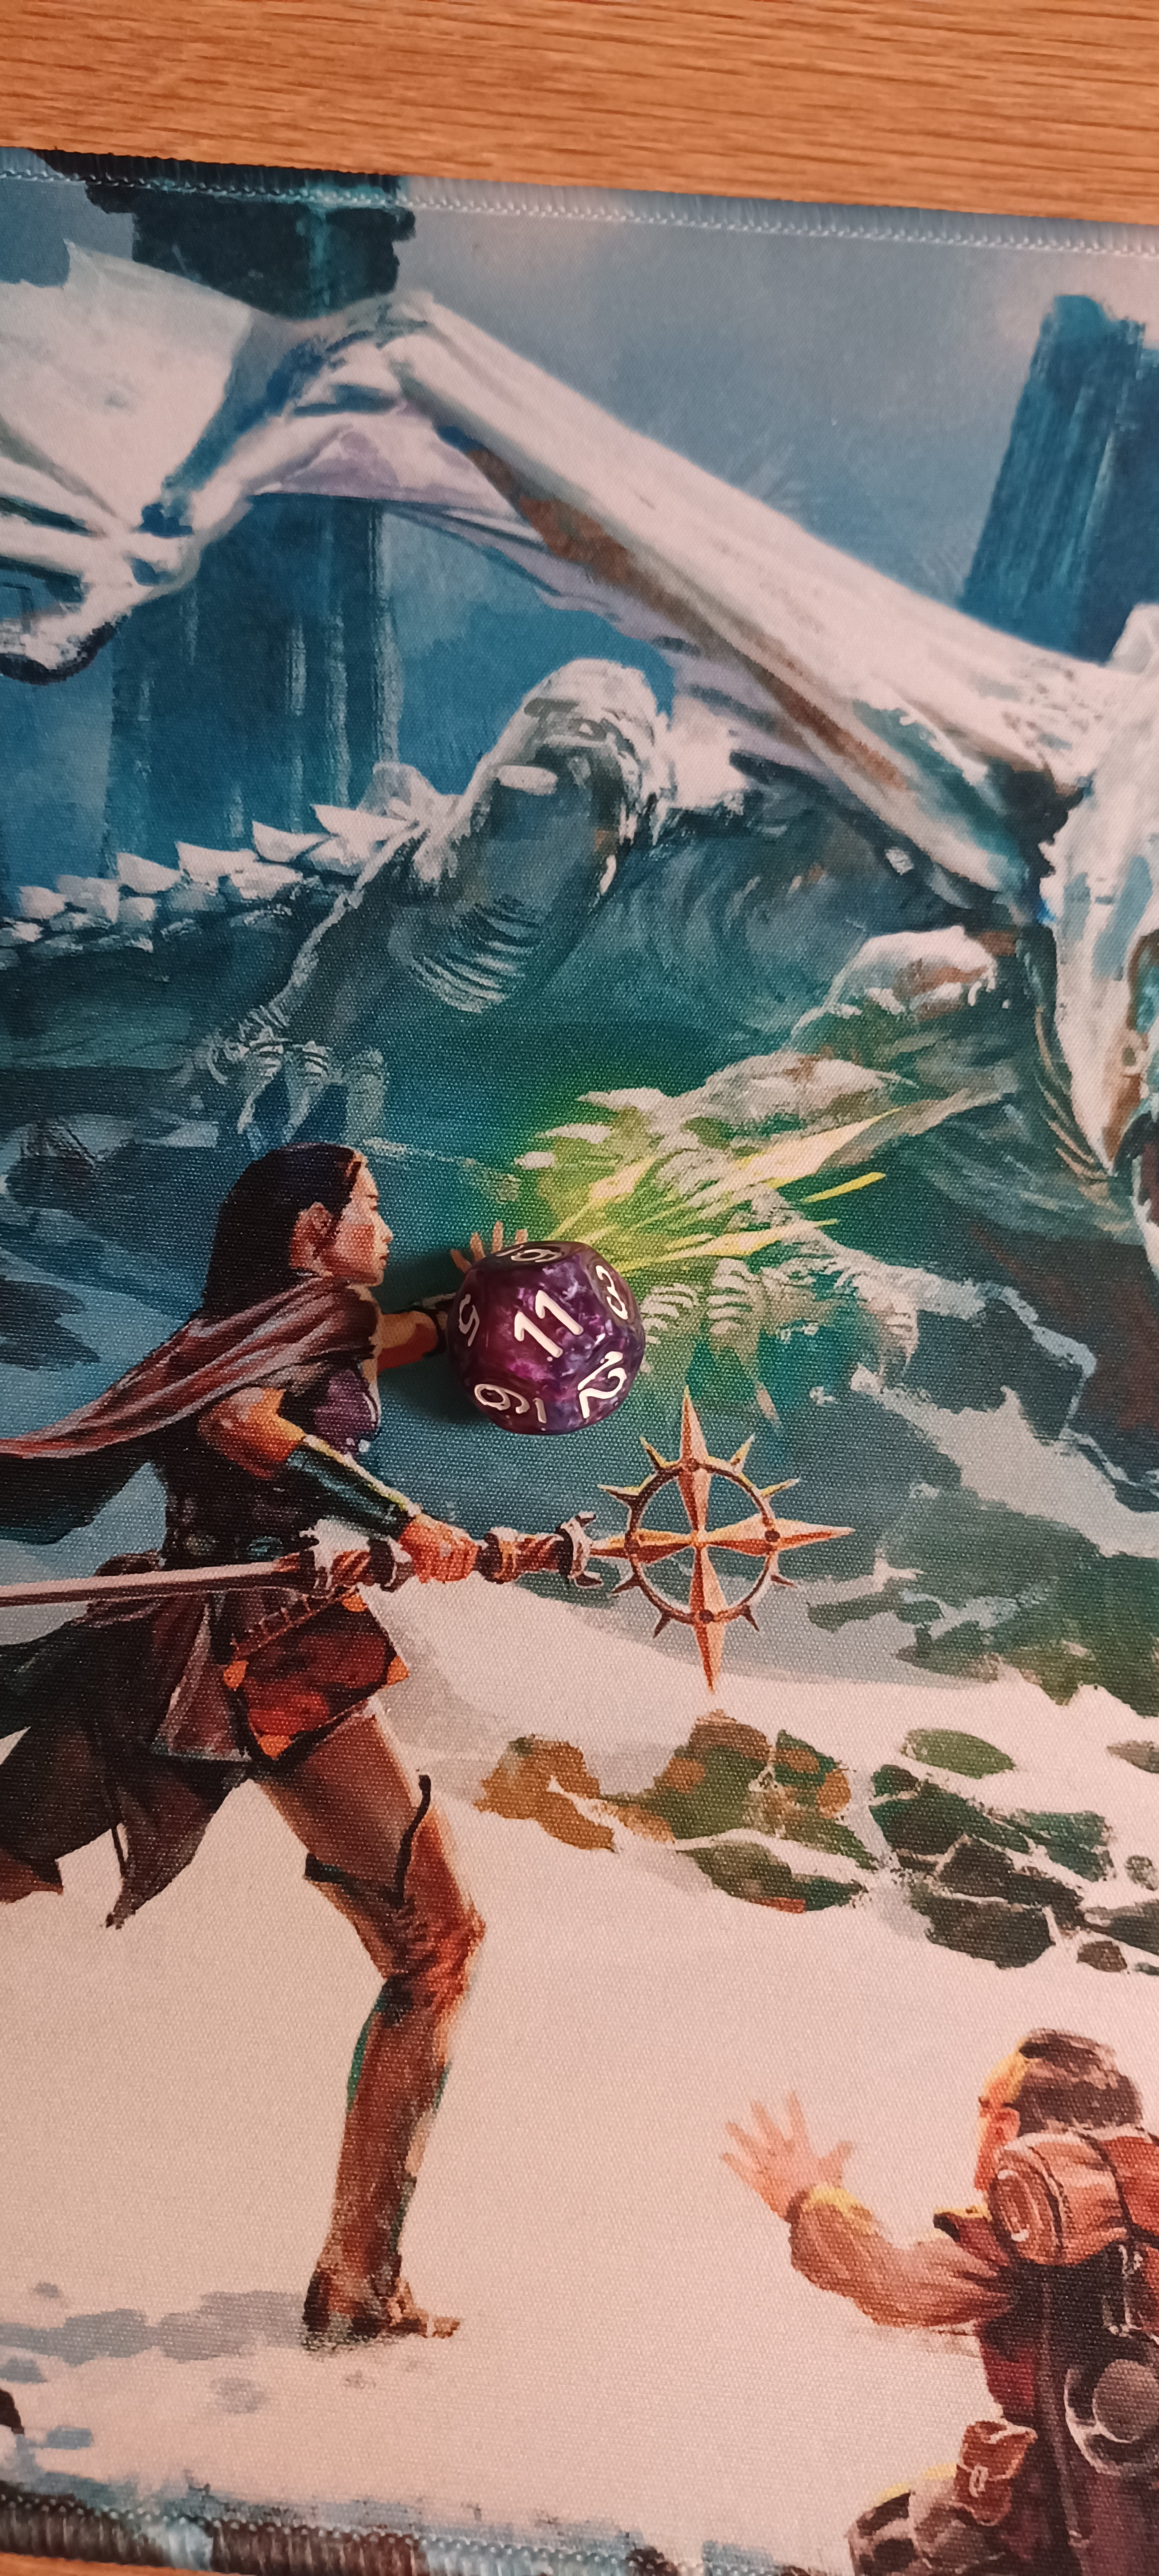eleven: (387, 1196, 689, 1479)
